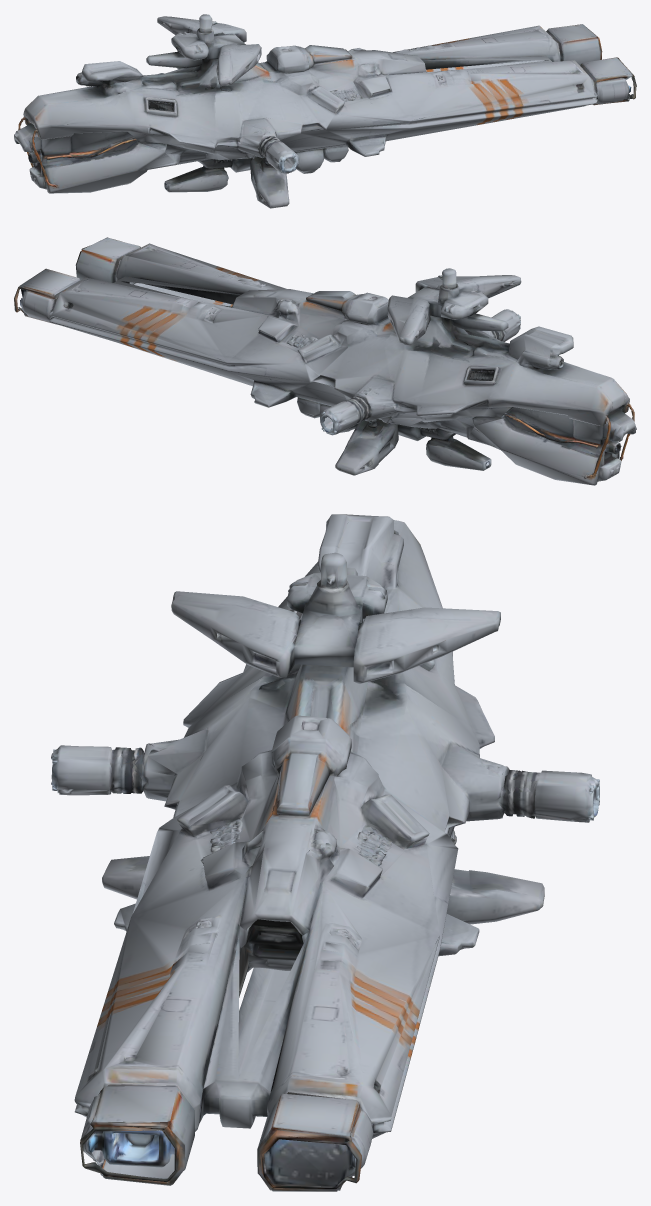
Rendered from 20bcd78a-28e1-4fa5-b822-04e68de03ea2_model.glb.
3 renders of one model, top to bottom at view 1: azimuth 30°, elevation 25°; view 2: azimuth 150°, elevation 25°; view 3: azimuth 270°, elevation 25°, orthographic. The views are drawn at different scales.
Visible parts, largest first — view 1: tripo_node_20bcd78a-28e1-4fa5-b822-04e68de03ea2; view 2: tripo_node_20bcd78a-28e1-4fa5-b822-04e68de03ea2; view 3: tripo_node_20bcd78a-28e1-4fa5-b822-04e68de03ea2.
Part boxes in pixels (<box>): tripo_node_20bcd78a-28e1-4fa5-b822-04e68de03ea2: <box>14,14,636,208</box>; tripo_node_20bcd78a-28e1-4fa5-b822-04e68de03ea2: <box>14,237,636,485</box>; tripo_node_20bcd78a-28e1-4fa5-b822-04e68de03ea2: <box>51,514,599,1191</box>.
Bounding box in the file's own units: 17.04 × 5 × 7.23.
1 material, 1 textured.
